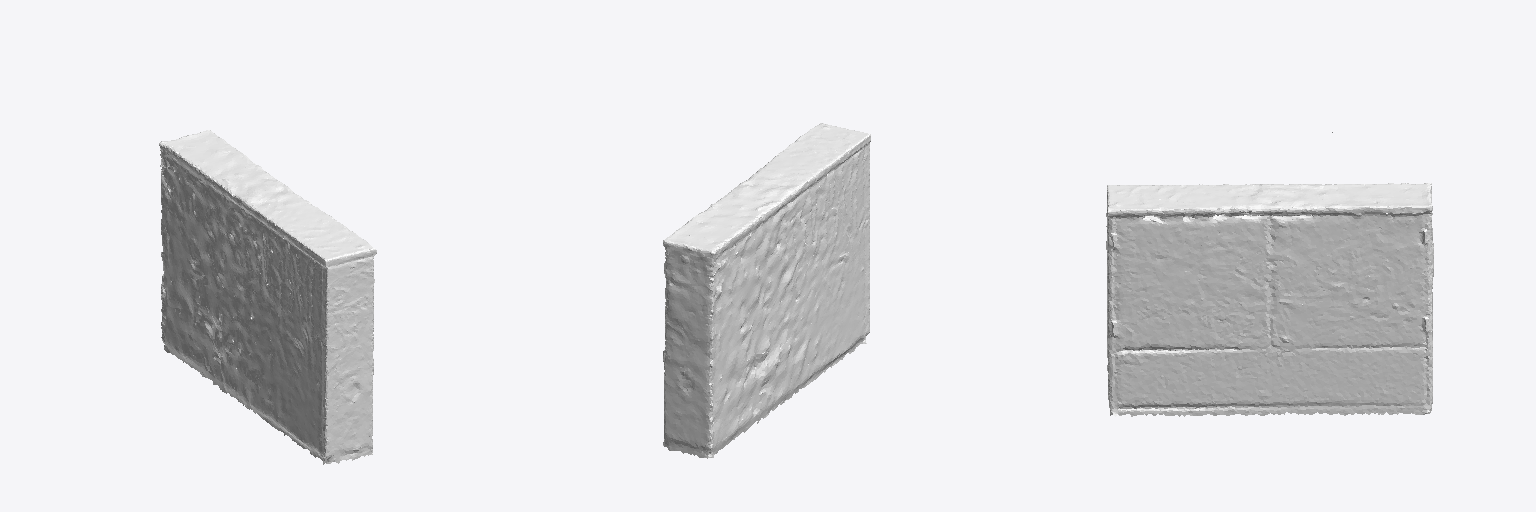
Rendered from urban_art_1.obj.
The picture shows the model from 3 angles: view 1: azimuth 30°, elevation 25°; view 2: azimuth 150°, elevation 25°; view 3: azimuth 270°, elevation 25°; orthographic projection.
Visible parts, largest first — view 1: Group_Global; view 2: Group_Global; view 3: Group_Global.
Part boxes in pixels (x1,y1,x2,y2): Group_Global: (159, 130, 376, 464); Group_Global: (663, 123, 870, 458); Group_Global: (1106, 132, 1433, 416).
Bounding box in the file's own units: 282 × 918 × 1000.